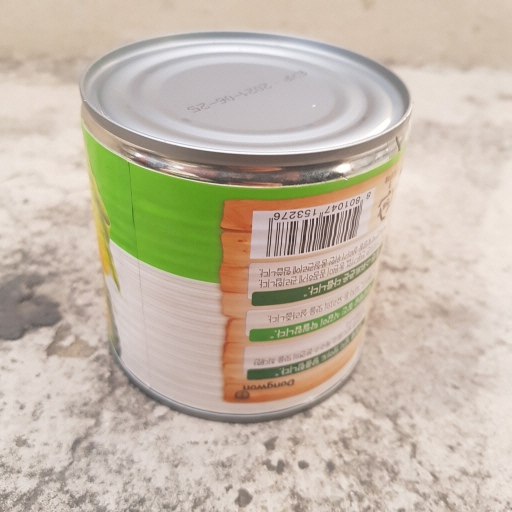Metal_1: (81, 31, 413, 419)
